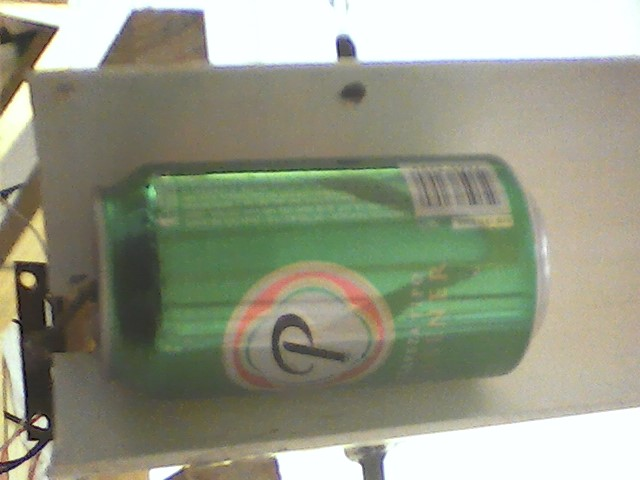lata: (79, 141, 561, 405)
